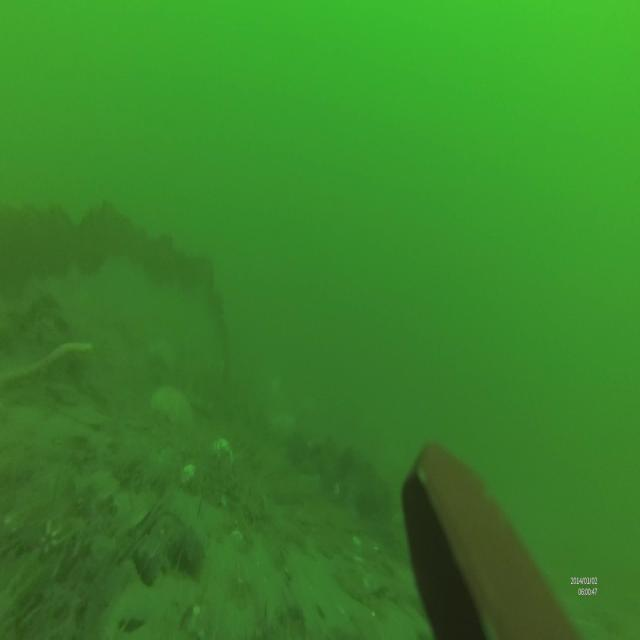starfish: (150, 384, 192, 430)
